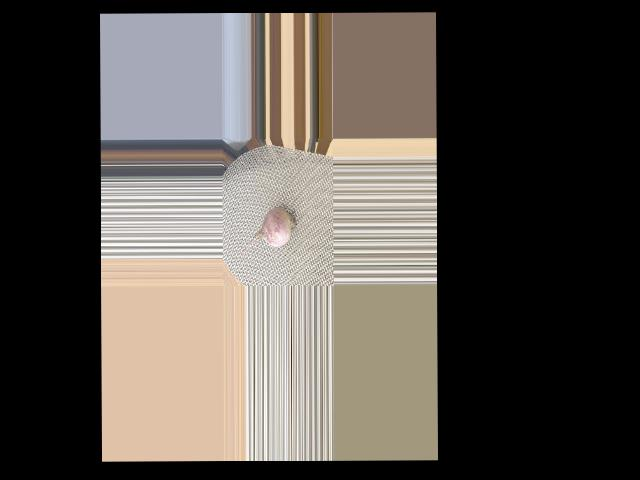beet: (241, 206, 297, 264)
